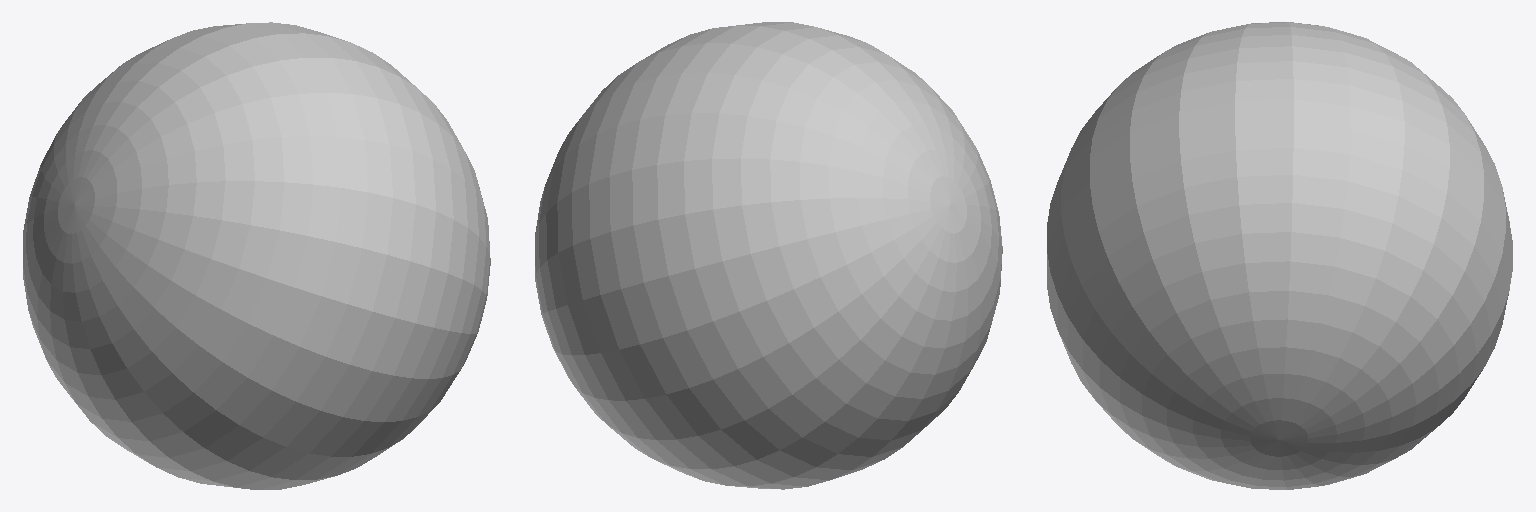
The model's file is CubeWITHAnim0006.obj.
3 views of the same model, side by side, from view 1: azimuth 30°, elevation 25°; view 2: azimuth 150°, elevation 25°; view 3: azimuth 270°, elevation 25° (orthographic).
Parts seen in each view (by area): view 1: NEWJumpBall_Sphere; view 2: NEWJumpBall_Sphere; view 3: NEWJumpBall_Sphere.
Boxes of the visible parts, box(x1,y1,x2,y2) form: NEWJumpBall_Sphere: box(23, 22, 490, 489); NEWJumpBall_Sphere: box(535, 22, 1002, 489); NEWJumpBall_Sphere: box(1047, 22, 1512, 489).
Bounding box in the file's own units: 2 × 2 × 1.99.